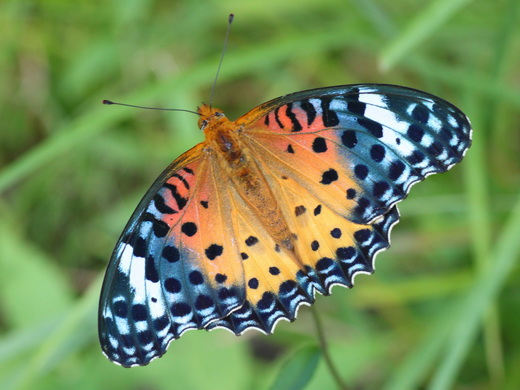Argyreus hyperbius: (89, 10, 479, 368)
butterfly: (91, 12, 481, 370)
